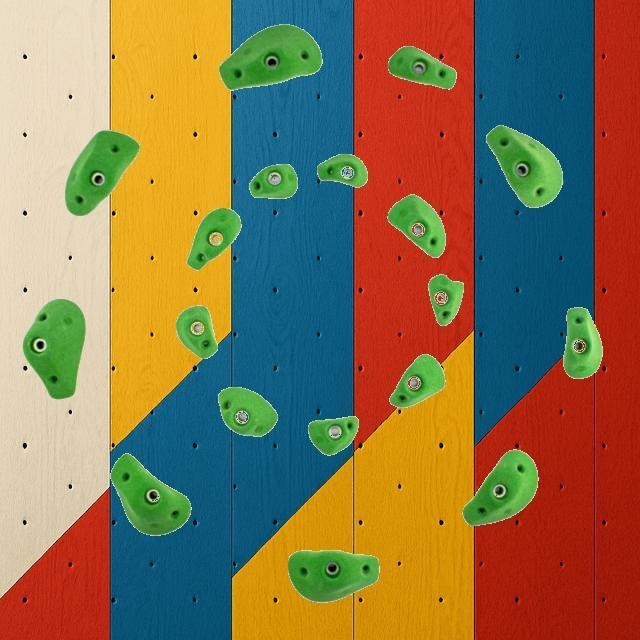Pinch: (218, 22, 322, 90), (110, 452, 190, 536), (64, 128, 140, 215), (484, 124, 562, 208), (22, 297, 86, 398), (462, 449, 538, 526), (287, 550, 379, 602), (387, 194, 445, 258), (185, 206, 241, 270), (388, 45, 457, 89), (218, 386, 278, 436), (388, 354, 444, 406), (564, 308, 602, 378), (177, 306, 219, 359), (310, 416, 358, 456), (428, 274, 464, 326), (318, 154, 368, 188), (250, 164, 296, 198)
